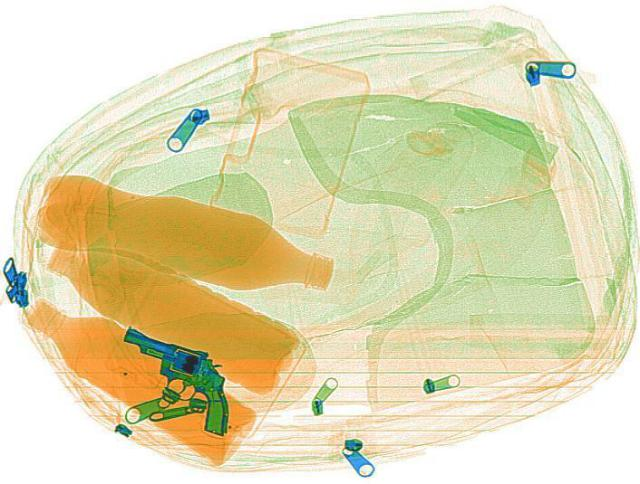Gun: (114, 307, 264, 440)
